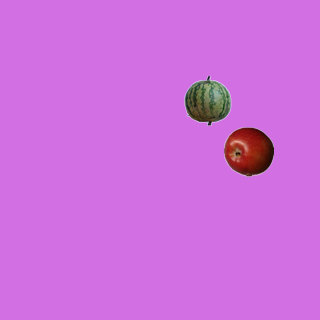Apple Braeburn: (223, 126, 273, 176)
Watermelon: (182, 75, 232, 125)
